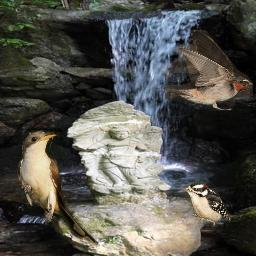Cuckoo: (17, 130, 100, 250)
Swallow: (164, 30, 253, 111)
Woodpecker: (180, 182, 231, 227)
